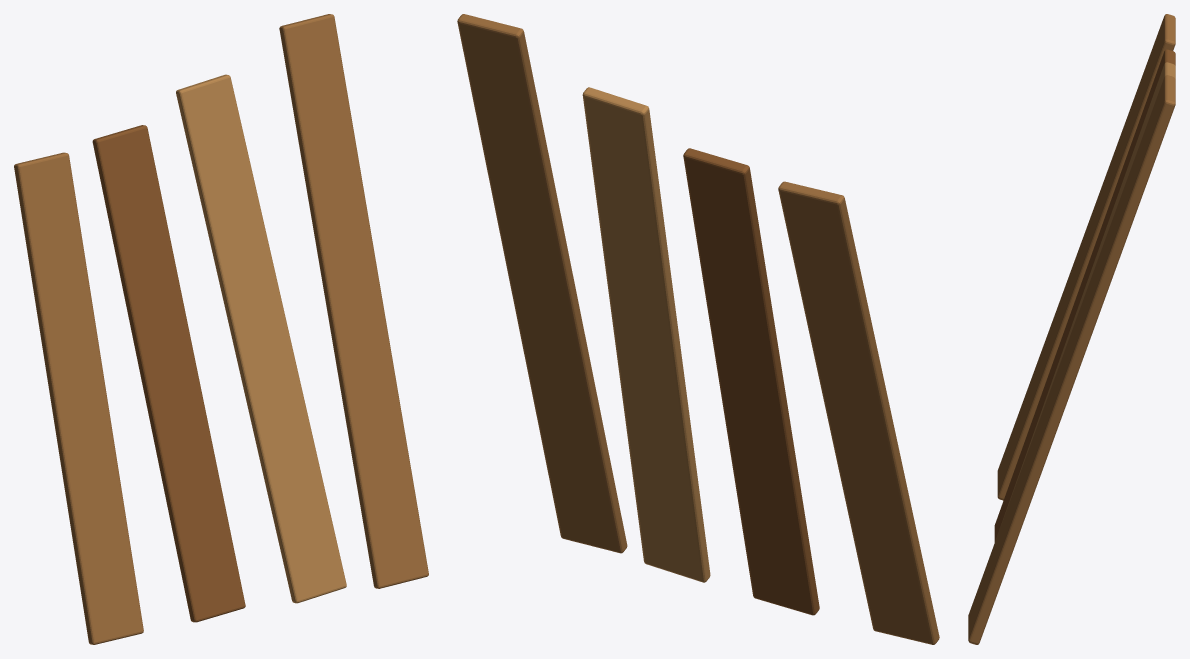
The model's file is Wall_PlankLean.fbx.
3 views of the same model, side by side, from view 1: azimuth 30°, elevation 25°; view 2: azimuth 150°, elevation 25°; view 3: azimuth 270°, elevation 25° (orthographic). The views are drawn at different scales.
Parts seen in each view (by area): view 1: Wall_PlankLean; view 2: Wall_PlankLean; view 3: Wall_PlankLean.
Part boxes in pixels (x1=…): Wall_PlankLean: x1=14, y1=14, x2=428, y2=644; Wall_PlankLean: x1=457, y1=14, x2=939, y2=644; Wall_PlankLean: x1=968, y1=14, x2=1175, y2=644.
Bounding box in the file's own units: 1.37 × 2.03 × 0.7007.
